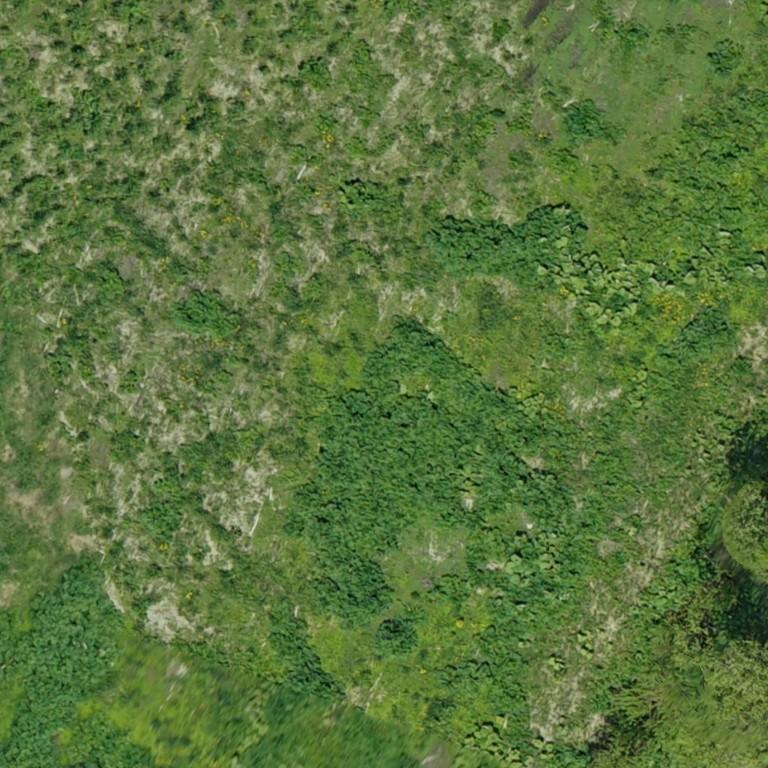hogweed: (286, 317, 546, 617), (0, 555, 121, 767), (426, 207, 564, 281), (269, 610, 342, 702), (174, 289, 239, 336), (371, 620, 418, 654), (145, 502, 179, 534), (337, 181, 375, 208)
